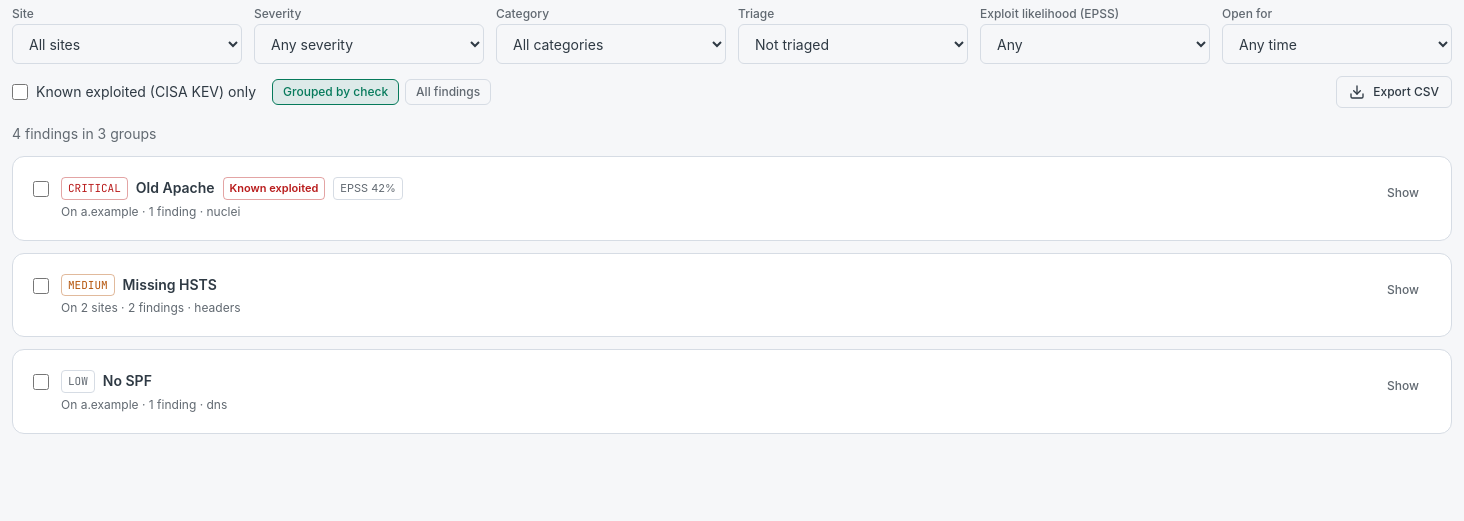
Test: FindingsExplorer › reports a failed export
The image size is (1464, 521).
Expected: the heading "Missing HSTS" is shown, left=123, top=275, right=217, bottom=295
Click the button "Export CSV" at (1394,92), box left=1336, top=76, right=1452, bottom=108
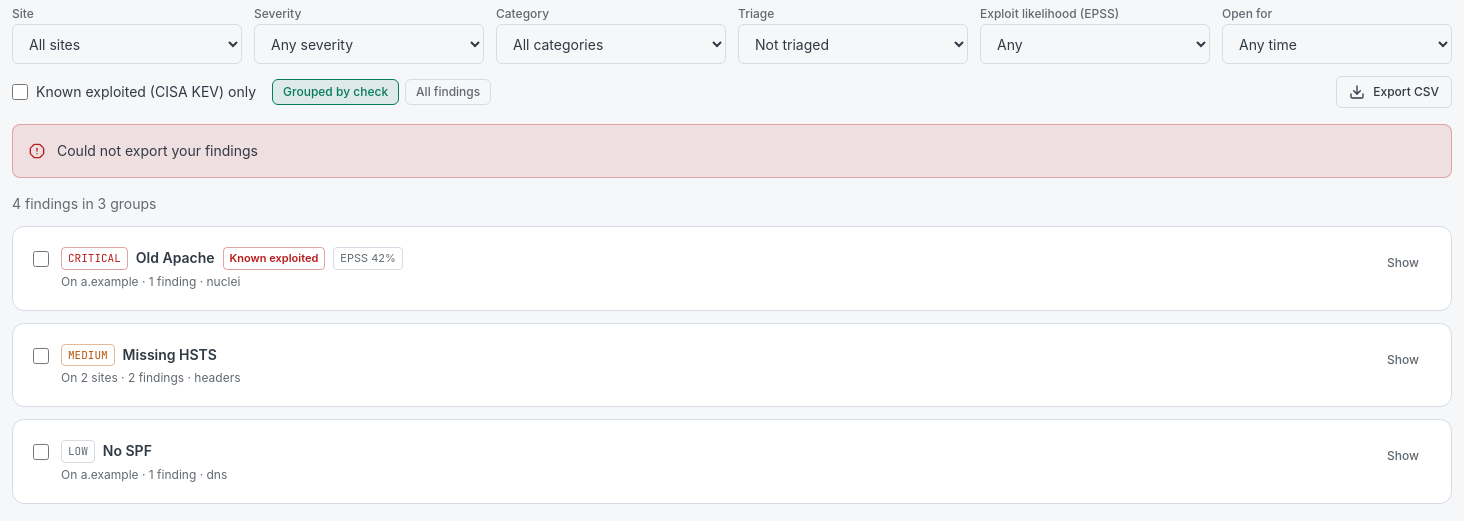
Result: the message reads "Could not export your findings" at left=57, top=142, right=258, bottom=159
